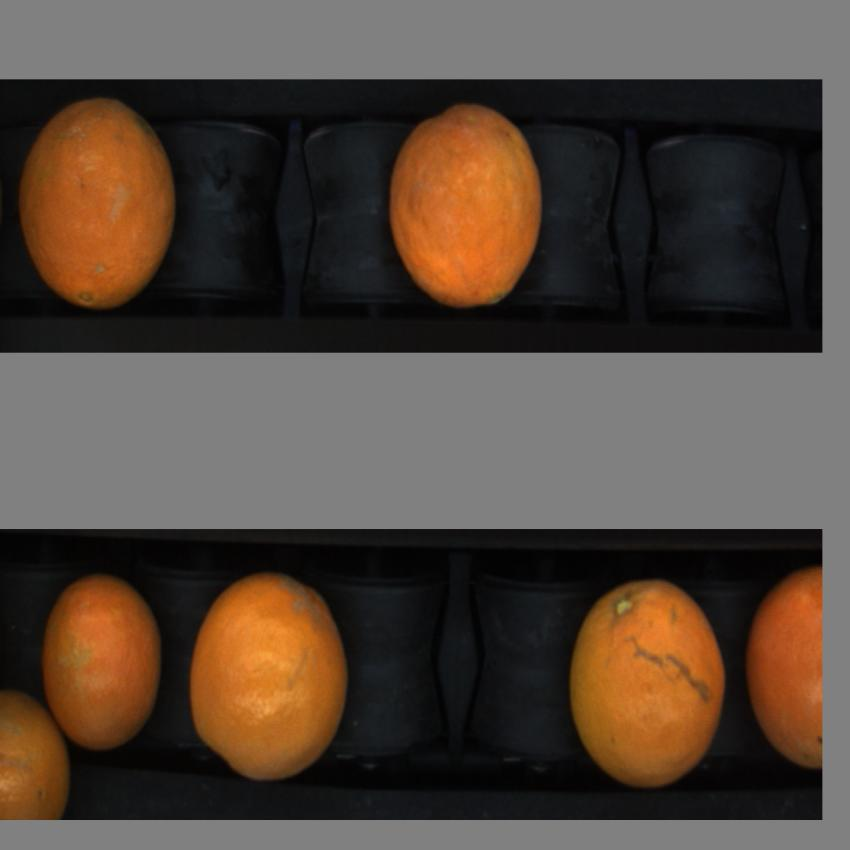Buen estado: (568, 572, 733, 792), (189, 568, 352, 789), (35, 574, 168, 770), (744, 560, 822, 784), (0, 680, 70, 814)
Mal estado: (383, 99, 552, 318), (15, 96, 186, 311)
